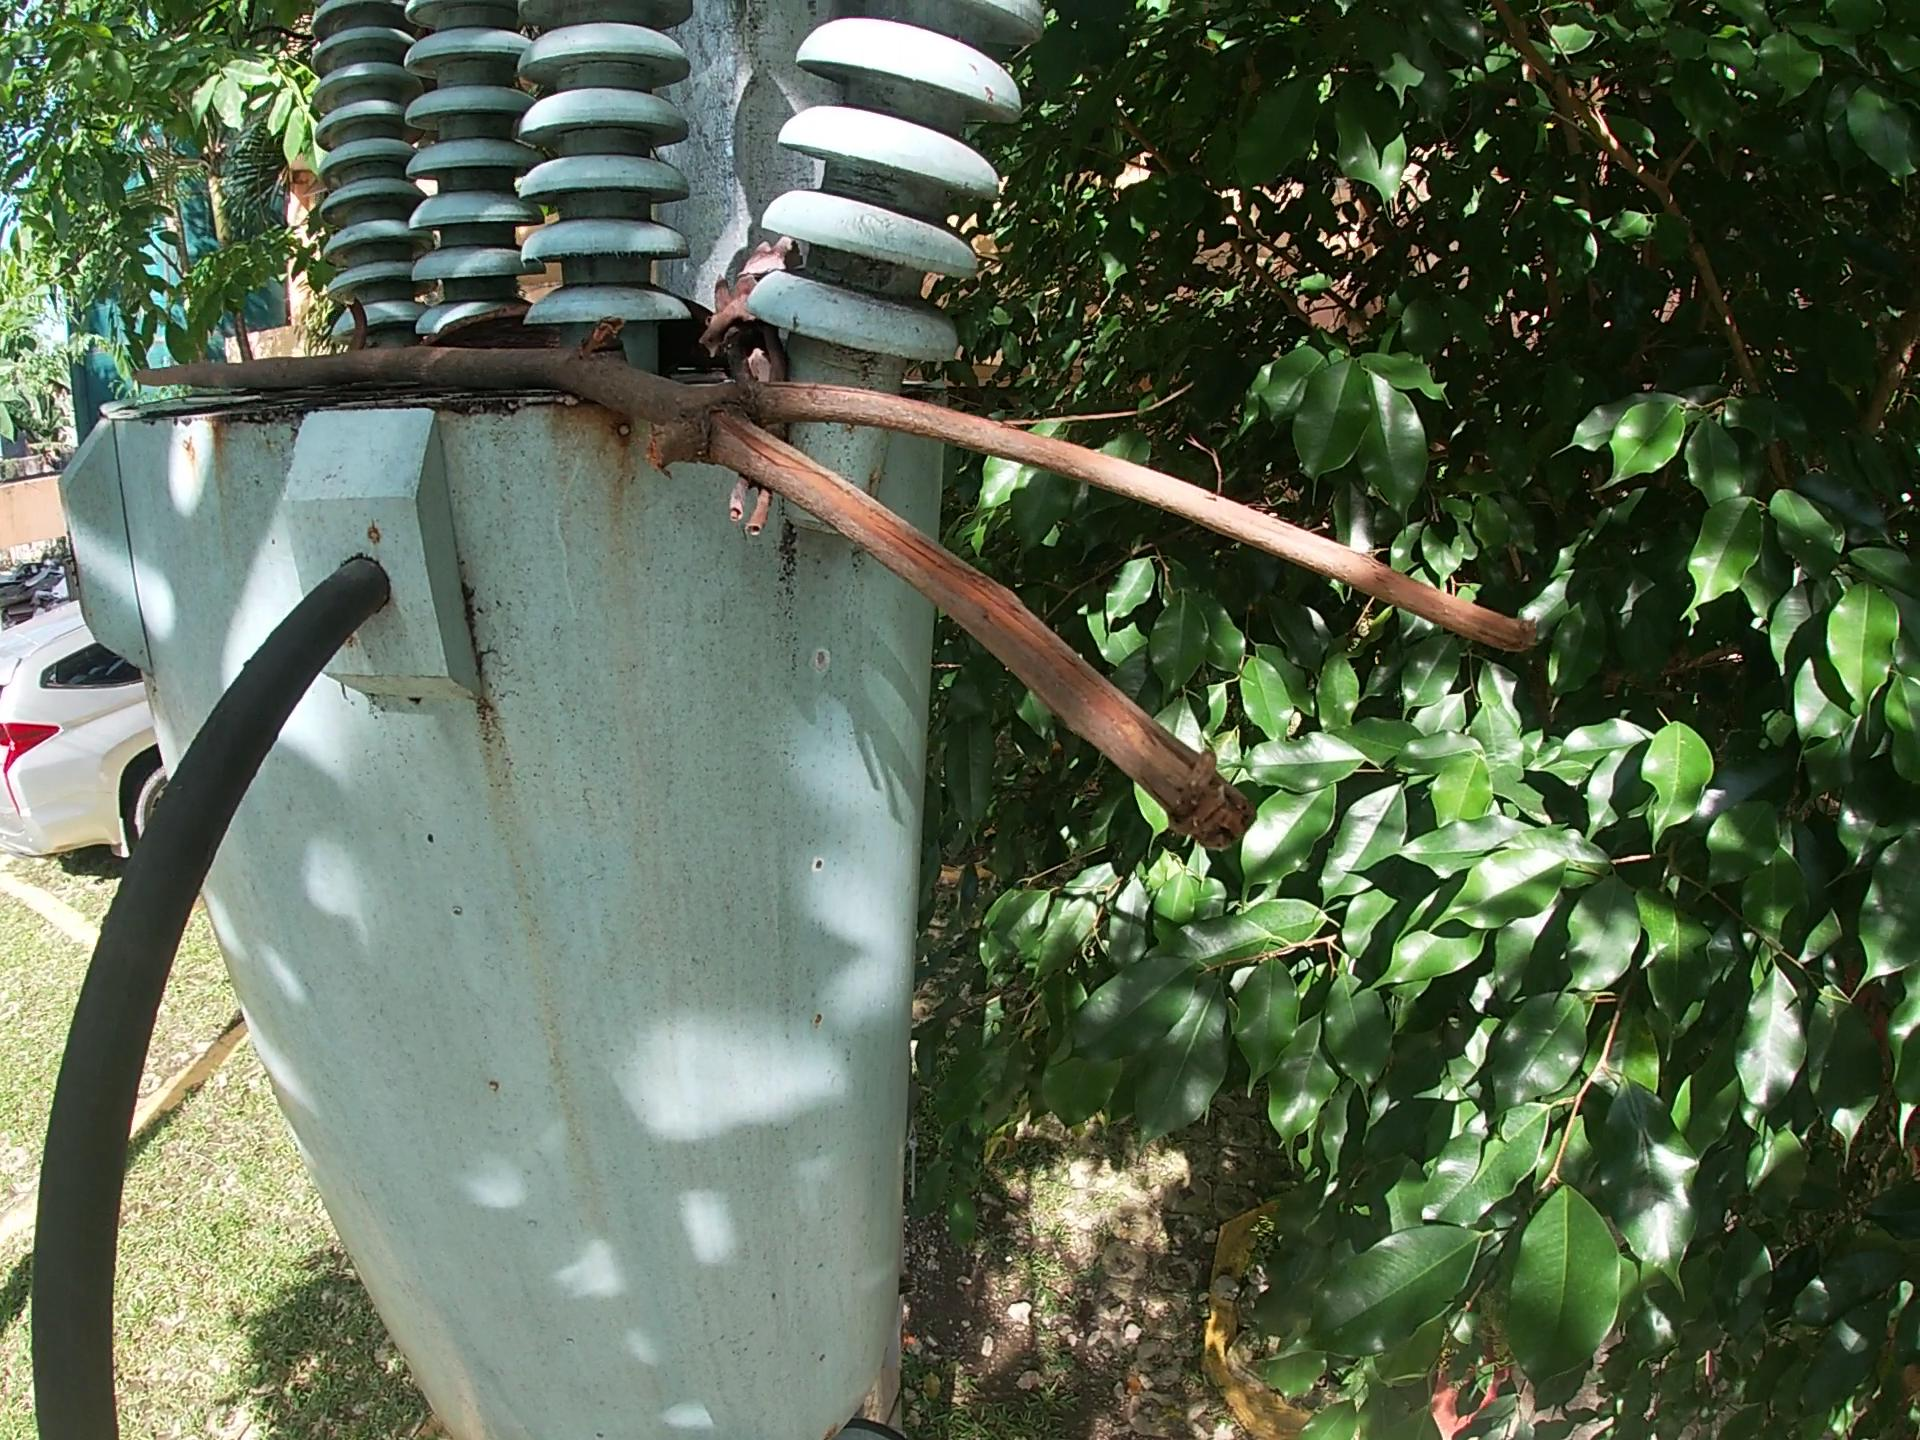mahogany fruit: (432, 303, 555, 355), (667, 290, 709, 369), (340, 286, 382, 340)
tree branch: (91, 328, 1548, 880), (708, 234, 794, 563)
